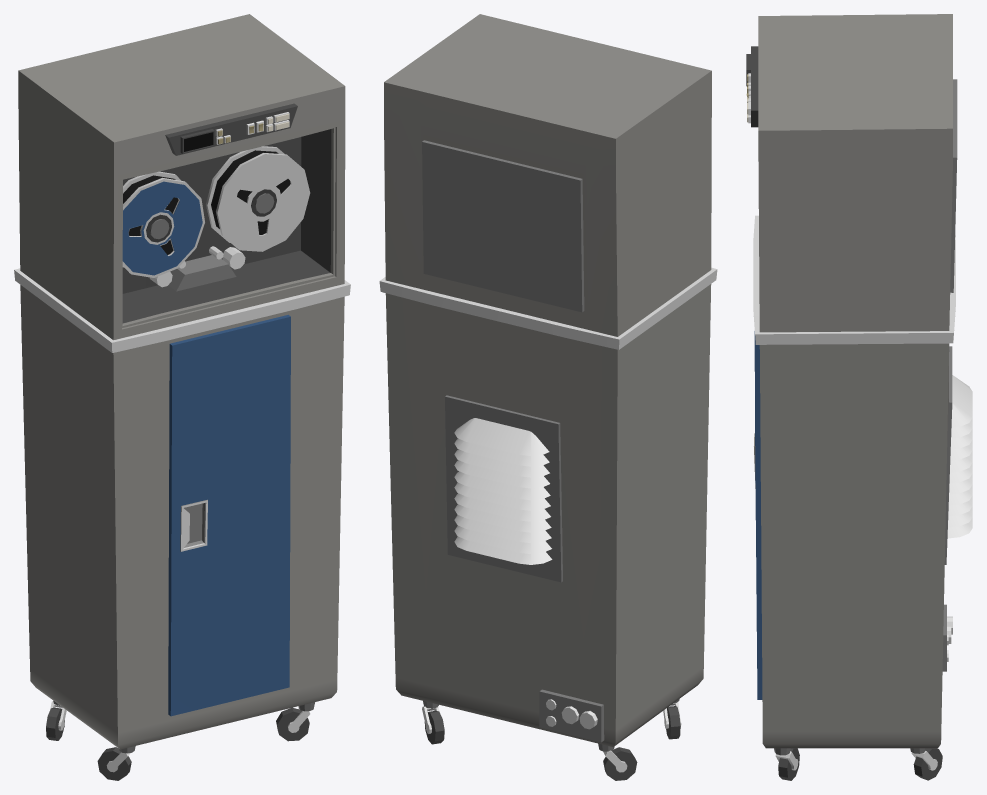
The model's file is officeRecorderBlue.glb.
The picture shows the model from 3 angles, left to right: view 1: azimuth 30°, elevation 25°; view 2: azimuth 150°, elevation 25°; view 3: azimuth 270°, elevation 25°; orthographic projection.
Visible parts, largest first — view 1: Cylinder.000_0; view 2: Cylinder.000_0; view 3: Cylinder.000_0.
Part boxes in pixels (x1=…): Cylinder.000_0: x1=14, y1=14, x2=350, y2=780; Cylinder.000_0: x1=379, y1=14, x2=717, y2=780; Cylinder.000_0: x1=746, y1=14, x2=972, y2=780.
Bounding box in the file's own units: 0.8364 × 2.19 × 0.674.
